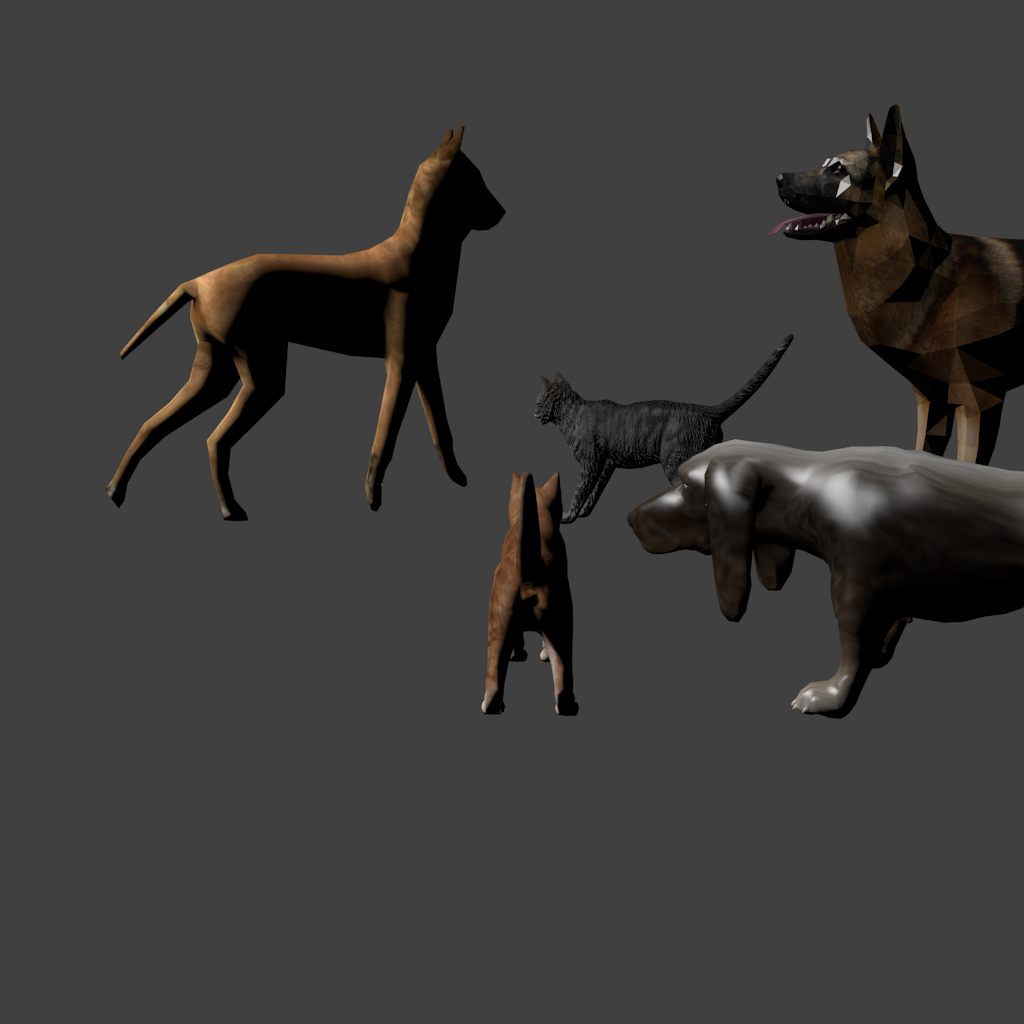Dog: (104, 125, 402, 396)
